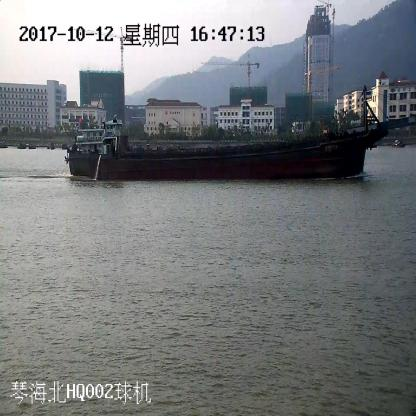Bulk Carrier: (69, 86, 416, 180)
